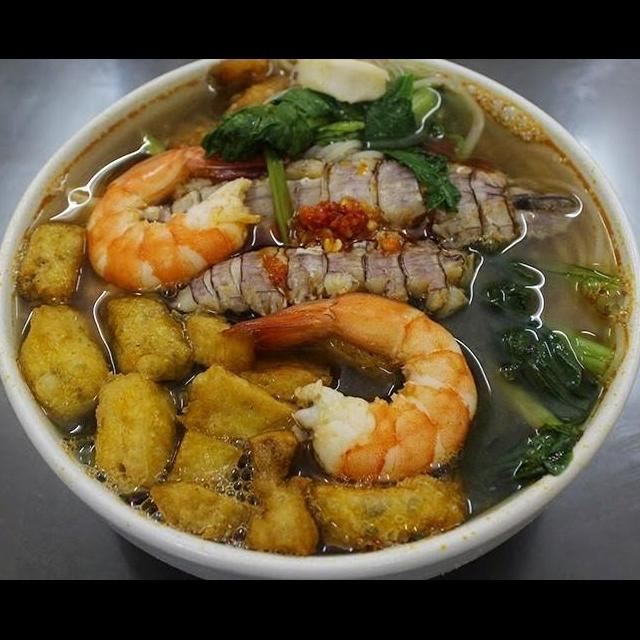dau hu: (13, 300, 118, 438), (168, 362, 306, 462), (88, 366, 184, 501), (232, 424, 326, 560), (104, 284, 196, 390), (140, 476, 258, 544), (230, 344, 338, 416), (8, 218, 92, 308), (160, 424, 248, 504), (178, 308, 262, 380)
tom: (215, 288, 480, 490), (80, 138, 292, 298)
tom tit: (144, 152, 584, 256), (158, 234, 484, 324)
